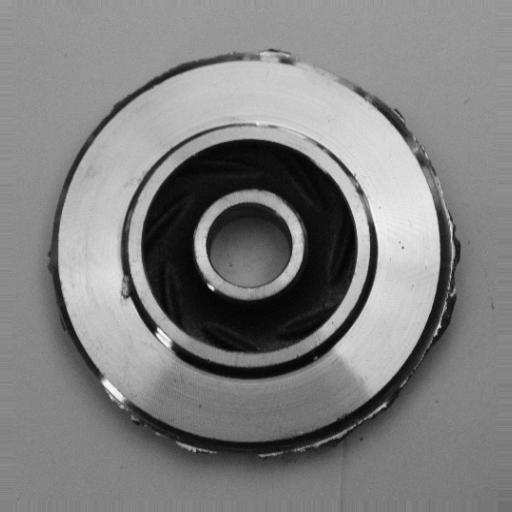casting_with_burr: (45, 44, 463, 464)
crack: (109, 270, 143, 310)
scratch: (244, 116, 319, 146)
